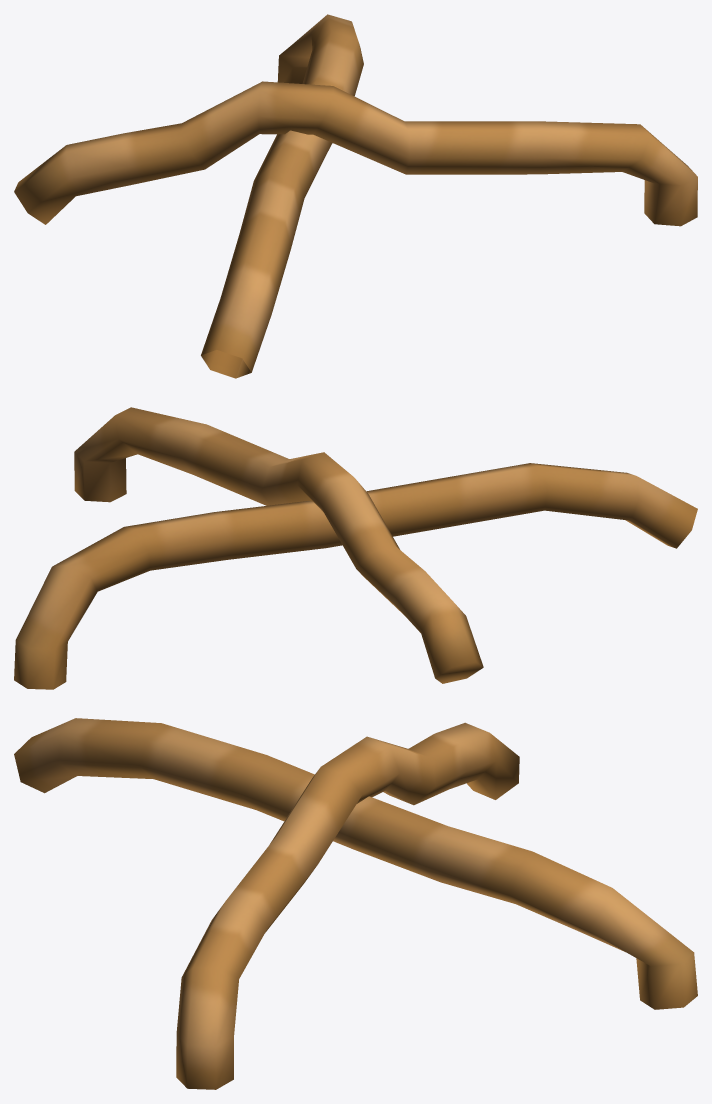
File: Ropes_Base_model_02.fbx
The picture shows the model from 3 angles, top to bottom: view 1: azimuth 30°, elevation 25°; view 2: azimuth 150°, elevation 25°; view 3: azimuth 270°, elevation 25°; orthographic projection. The views are drawn at different scales.
Visible parts, largest first — view 1: Rope_Model; view 2: Rope_Model; view 3: Rope_Model.
Part boxes in pixels (<box>): Rope_Model: <box>14,14,697,378</box>; Rope_Model: <box>14,407,697,689</box>; Rope_Model: <box>14,718,697,1089</box>.
Size of the model in its own units: 166 by 43.51 by 162.
